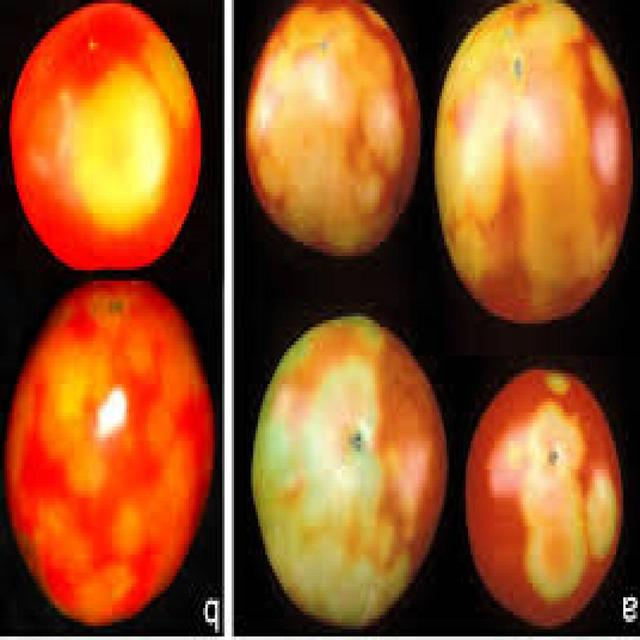Spotted wilt Virus Fruit: (8, 87, 363, 332)
